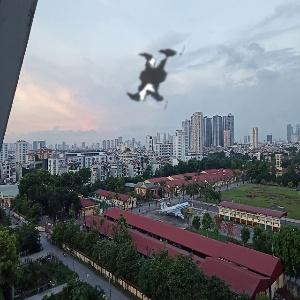drone: (91, 14, 219, 142)
